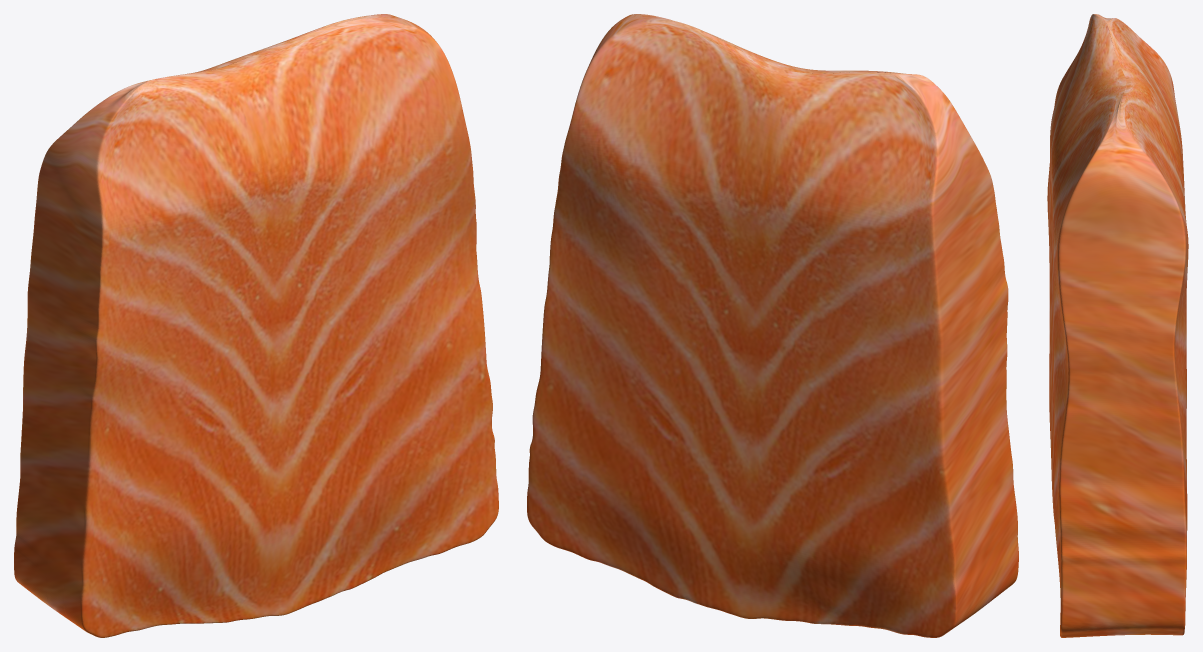
The model's file is salmone.fbx.
The picture shows the model from 3 angles, left to right: view 1: azimuth 30°, elevation 25°; view 2: azimuth 150°, elevation 25°; view 3: azimuth 270°, elevation 25°; orthographic projection. The views are drawn at different scales.
Parts seen in each view (by area): view 1: salmone; view 2: salmone; view 3: salmone.
Part boxes in pixels (x1=…): salmone: x1=14, y1=14, x2=498, y2=637; salmone: x1=527, y1=14, x2=1018, y2=637; salmone: x1=1047, y1=14, x2=1188, y2=637.
Size of the model in its own units: 128 by 158 by 39.71.
